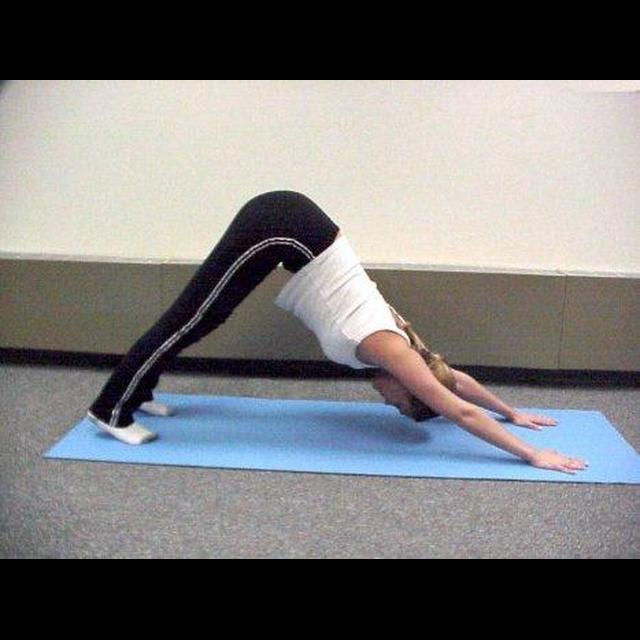Downward-Facing_Dog: (84, 188, 590, 482)
